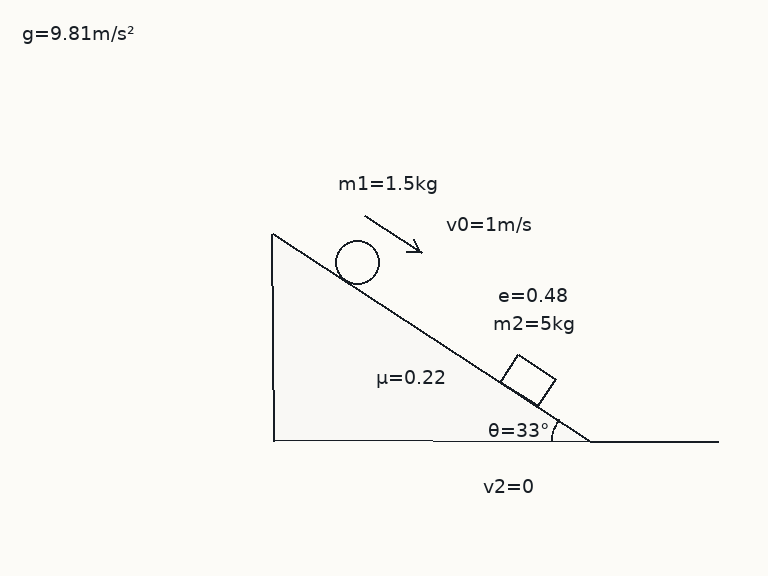ball: (333, 238, 381, 286)
block: (498, 352, 557, 407)
ramp: (271, 232, 594, 443)
